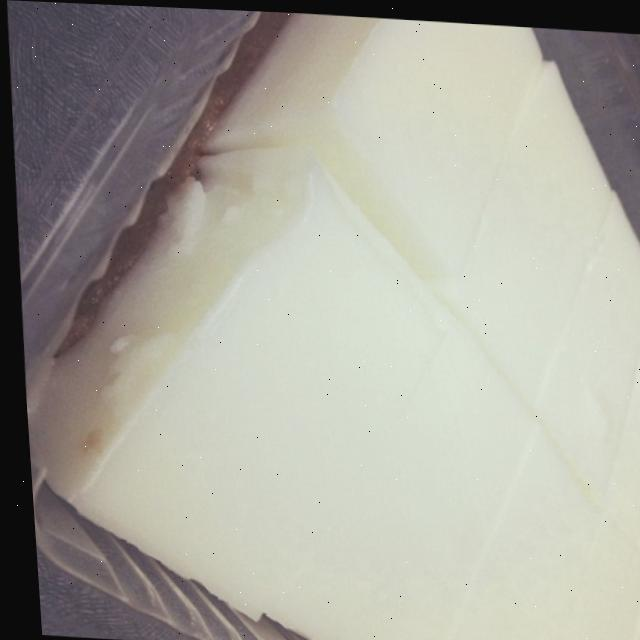蛋糕甜品: (8, 0, 640, 640)
